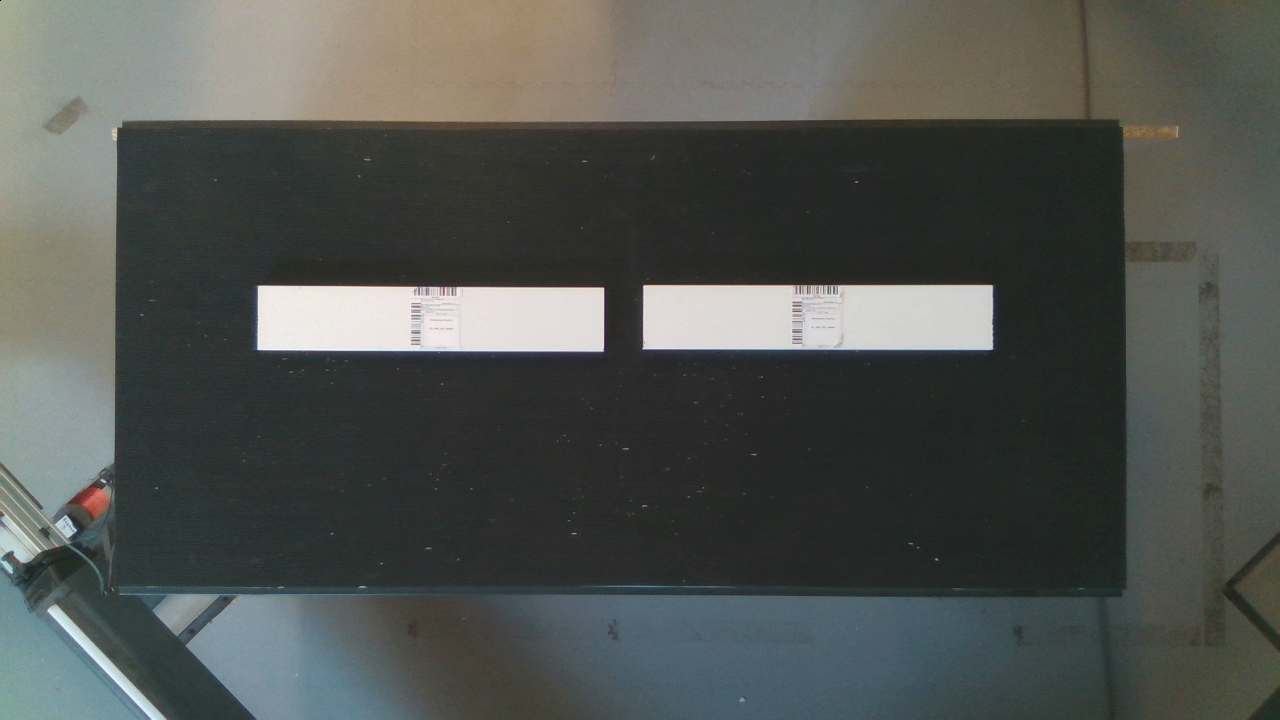barcode: (780, 273, 856, 352), (402, 278, 472, 356)
part1: (245, 272, 619, 365), (636, 271, 1014, 358)
